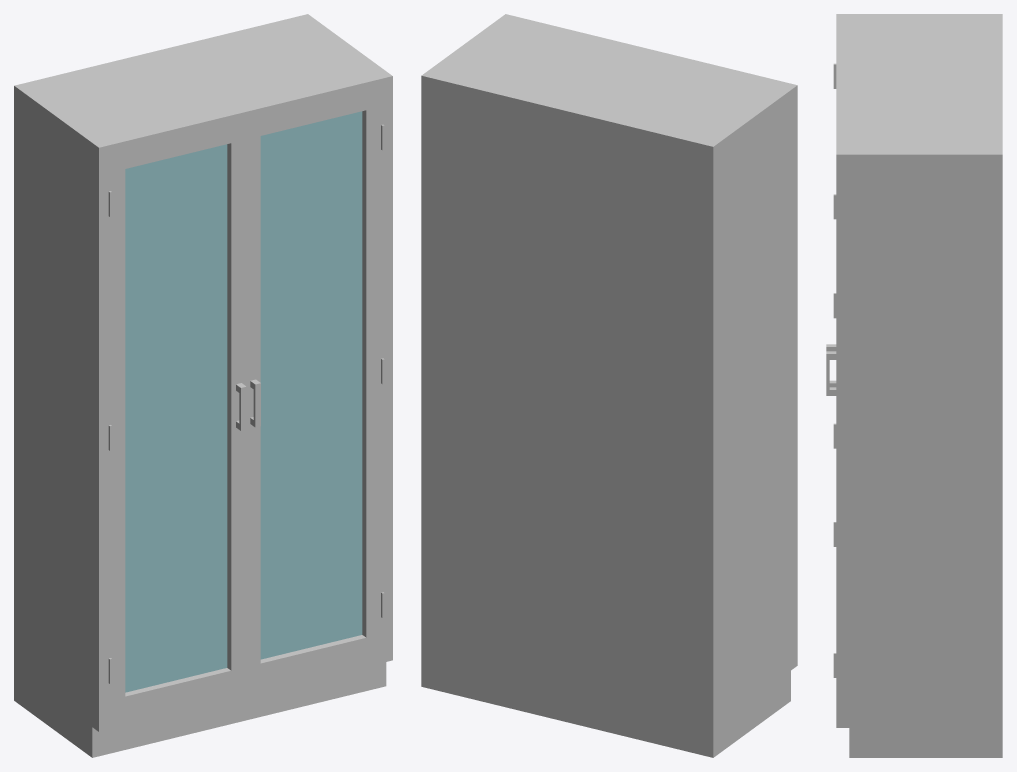
Rendered from LargeCabinet_low.fbx.
The picture shows the model from 3 angles, left to right: view 1: azimuth 30°, elevation 25°; view 2: azimuth 150°, elevation 25°; view 3: azimuth 270°, elevation 25°; orthographic projection.
Parts seen in each view (by area): view 1: Cabinet_Base_low, Cabinet_Door_Right_low, Cabinet_Door_Left_low; view 2: Cabinet_Base_low; view 3: Cabinet_Base_low.
Boxes of the visible parts, bbox=[...] form: Cabinet_Base_low: bbox=[14, 14, 392, 757]; Cabinet_Door_Right_low: bbox=[110, 124, 246, 715]; Cabinet_Door_Left_low: bbox=[246, 91, 380, 682]; Cabinet_Base_low: bbox=[421, 14, 797, 757]; Cabinet_Base_low: bbox=[833, 14, 1002, 757].
Size of the model in its own units: 39.37 by 20.87 by 78.74.
